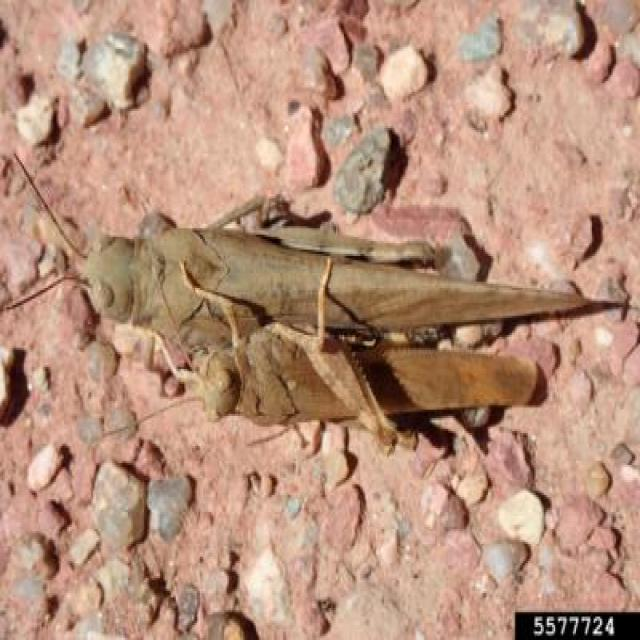antennae: (12, 151, 93, 256), (0, 272, 90, 312)
body: (90, 228, 571, 342)
insect: (4, 144, 624, 356)
legs: (204, 194, 283, 239)
wings: (209, 249, 611, 324)
